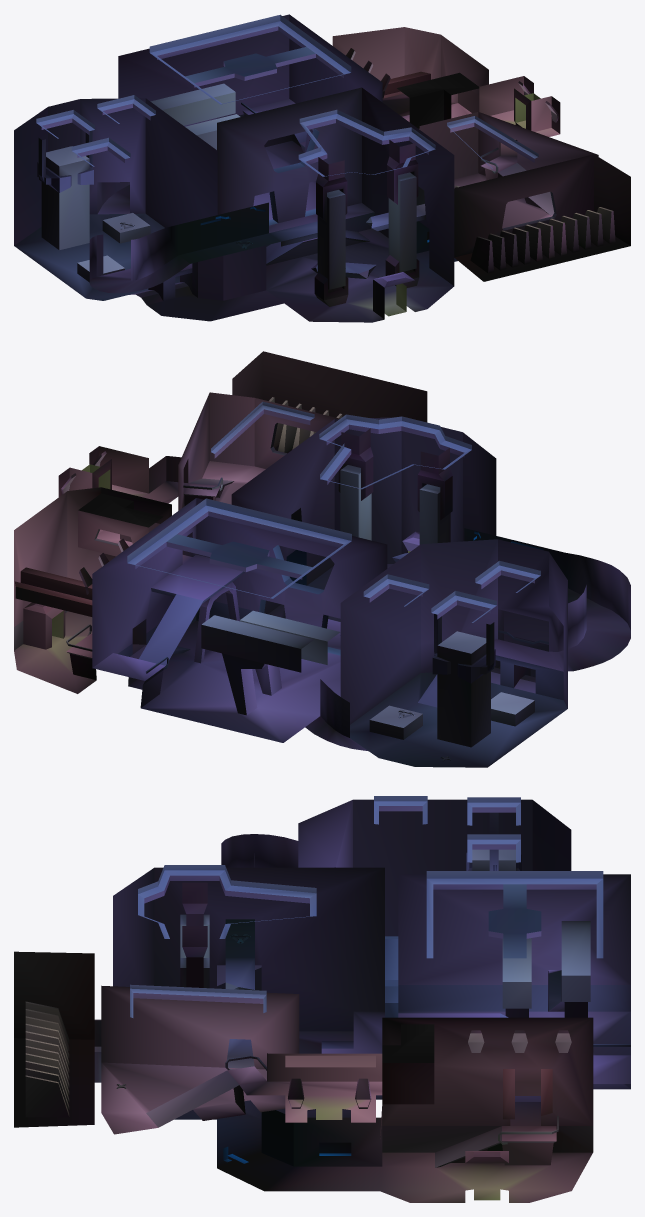
Rendered from CHL.glb.
The picture shows the model from 3 angles, top to bottom: view 1: azimuth 30°, elevation 25°; view 2: azimuth 150°, elevation 25°; view 3: azimuth 270°, elevation 25°; orthographic projection. The views are drawn at different scales.
Visible parts, largest first — view 1: CHL; view 2: CHL; view 3: CHL.
Part boxes in pixels (left/top/right/bottom): CHL: left=14, top=14, right=630, bottom=322; CHL: left=14, top=351, right=630, bottom=767; CHL: left=14, top=796, right=630, bottom=1202.
Size of the model in its own units: 70.27 by 20.39 by 64.45.
